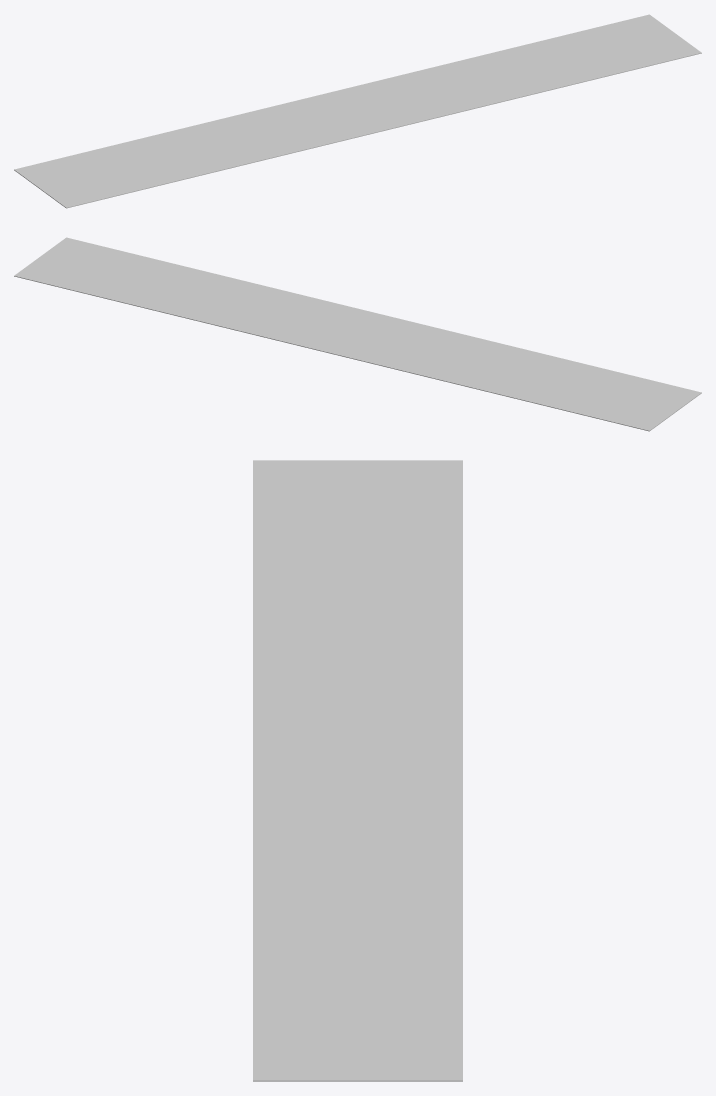
Rendered from techo.fbx.
3 views of the same model, one above another, from view 1: azimuth 30°, elevation 25°; view 2: azimuth 150°, elevation 25°; view 3: azimuth 270°, elevation 25° (orthographic). The views are drawn at different scales.
Visible parts, largest first — view 1: Cube.267, Cube.266, Cube.265; view 2: Cube.265, Cube.266, Cube.267; view 3: Cube.265, Cube.266, Cube.267.
Boxes of the visible parts, bbox=[...] form: Cube.267: bbox=[49, 40, 701, 208]; Cube.266: bbox=[31, 27, 683, 195]; Cube.265: bbox=[14, 14, 666, 182]; Cube.265: bbox=[14, 263, 666, 431]; Cube.266: bbox=[32, 250, 684, 418]; Cube.267: bbox=[49, 237, 701, 405]; Cube.265: bbox=[393, 460, 462, 1081]; Cube.266: bbox=[323, 460, 392, 1081]; Cube.267: bbox=[253, 460, 322, 1081].
Bounding box in the file's own units: 21000 × 20 × 3000.
Materials: 1 (1 with a texture image).
